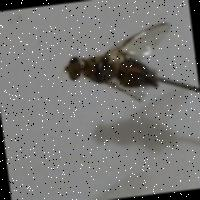Oriental-fruit-fly: (36, 10, 181, 126)
